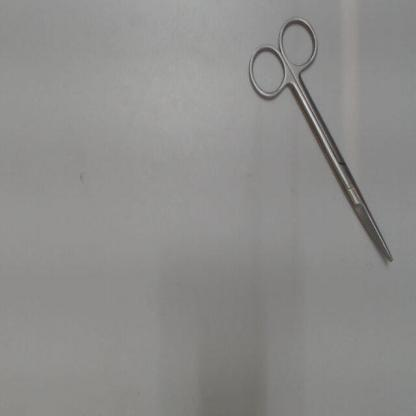Curved Mayo Scissors: (244, 9, 397, 268)
